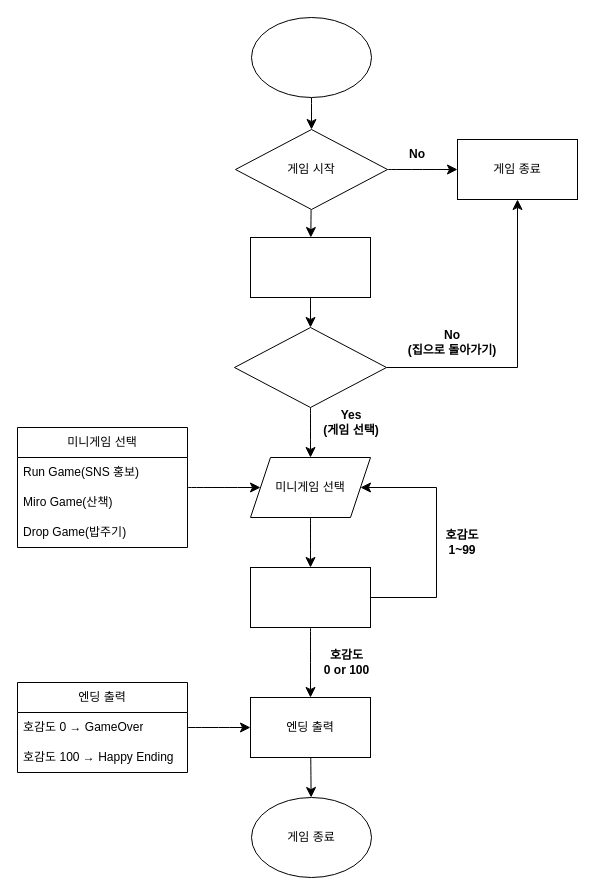
Some shapes in this 595 by 895 pixel diagram are drawn without their labels. Each missing label, with the centre of its shape:
"게임 진행 선택" goes at point (310, 367).
"메인 화면 진입" goes at point (310, 267).
"프로그램 실행" goes at point (311, 57).
"호감도 변동" goes at point (310, 597).
